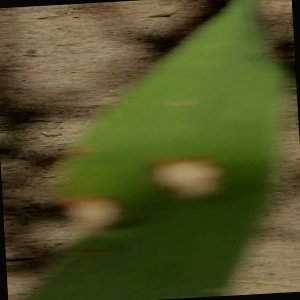Brown_Spot: (133, 142, 244, 216), (46, 179, 135, 237)
